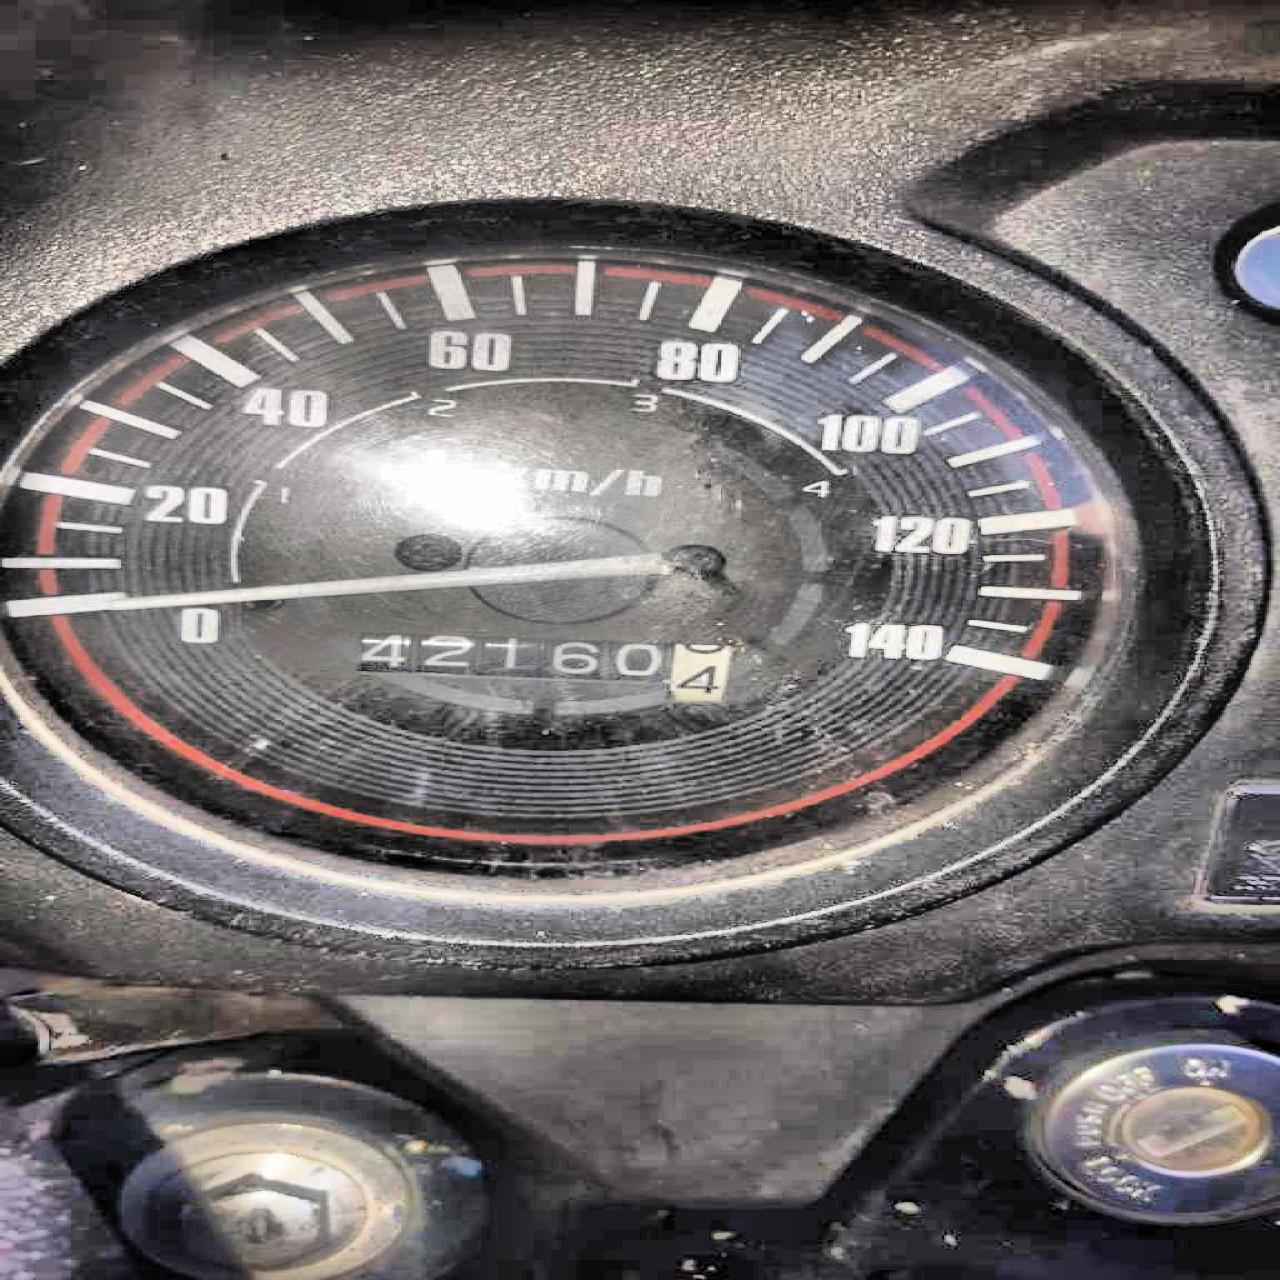0: (613, 642, 658, 675)
1: (501, 636, 518, 669)
2: (420, 634, 469, 666)
4: (358, 633, 407, 667), (673, 663, 717, 694)
6: (549, 640, 598, 674)
odometer: (349, 628, 734, 703)
